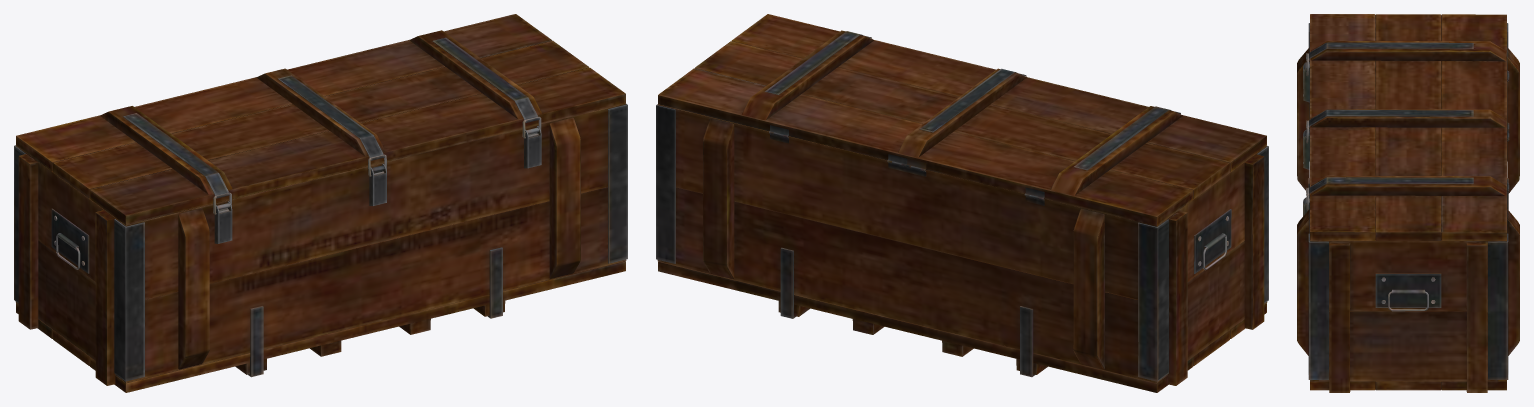
The model's file is wooden_military_crate.gltf.
3 views of the same model, side by side, from view 1: azimuth 30°, elevation 25°; view 2: azimuth 150°, elevation 25°; view 3: azimuth 270°, elevation 25° (orthographic). The views are drawn at different scales.
Parts seen in each view (by area): view 1: wooden_military_crate; view 2: wooden_military_crate; view 3: wooden_military_crate.
Boxes of the visible parts, box(x1,y1,x2,y2) form: wooden_military_crate: box(14, 14, 627, 392); wooden_military_crate: box(656, 14, 1268, 392); wooden_military_crate: box(1297, 14, 1519, 392).
Size of the model in its own units: 1.24 by 0.4645 by 0.5191.
Materials: 1 (1 with a texture image).
